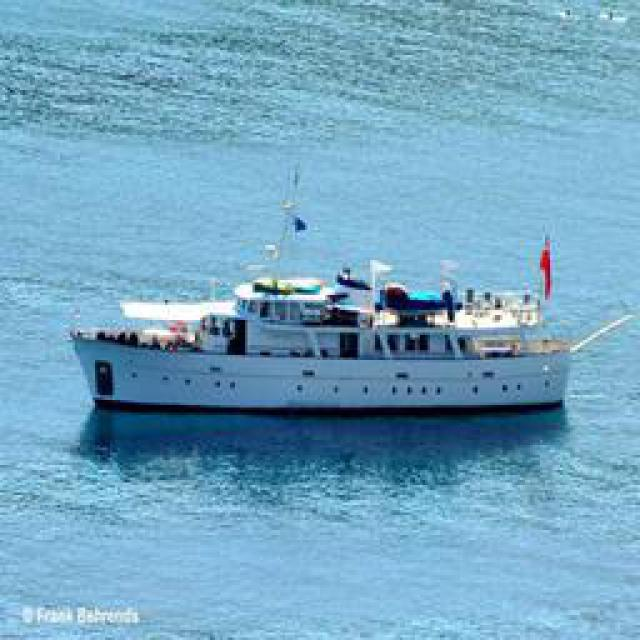Ship: (81, 255, 584, 415)
